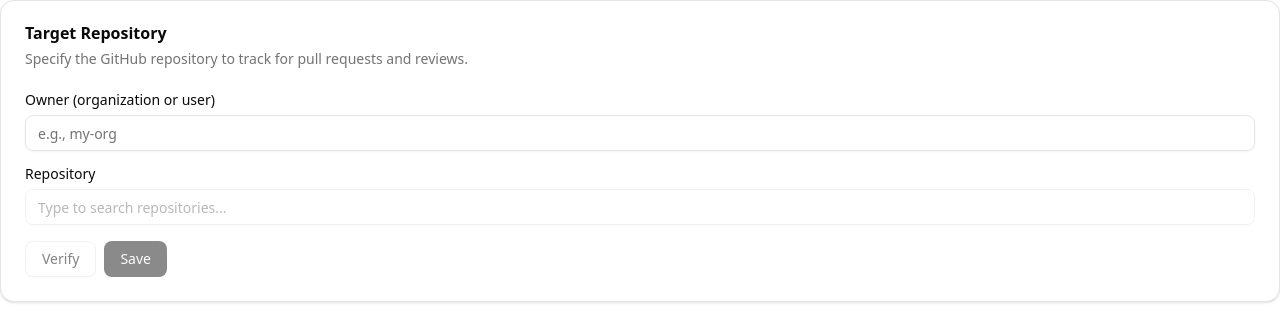
GitHubRepoForm › fills owner input when clicking a suggestion
The width and height of the screenshot is (1280, 328).
Focus the field labelled "Owner (organization or user)" at (640, 133), box 25,115 -> 1255,151
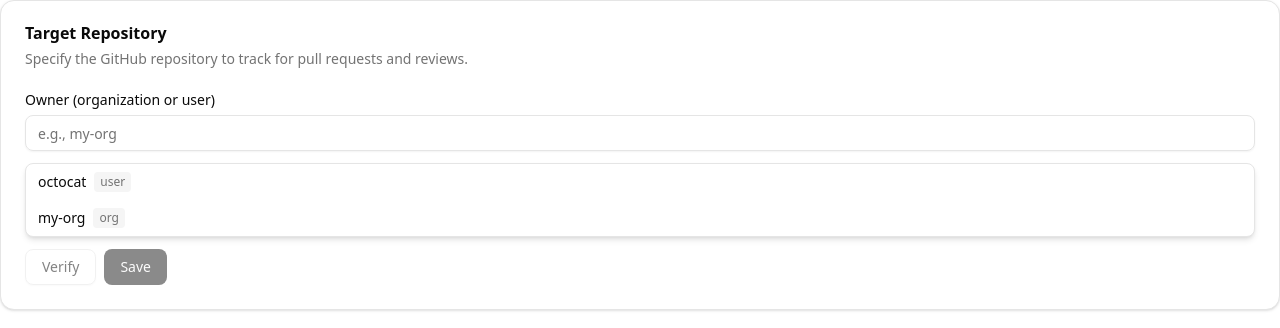
expect the text "my-org" is shown: met
Click the text "my-org" at (62, 218), box 38,208 -> 86,228
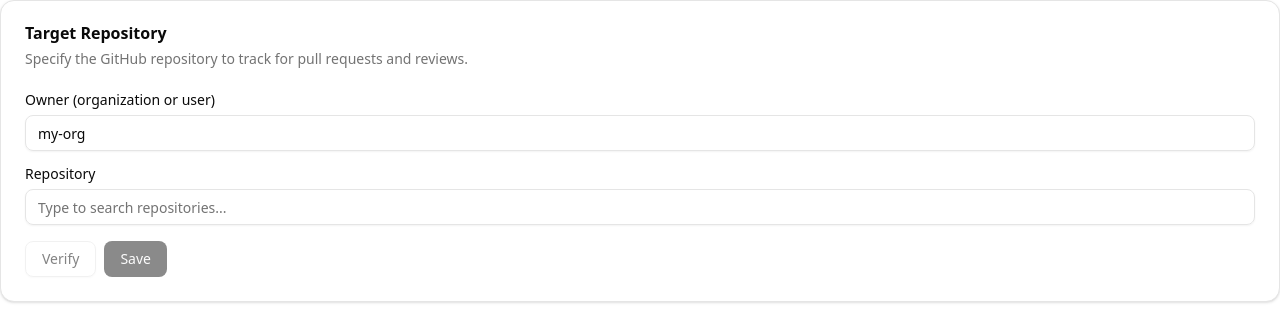
expect the field labelled "Owner (organization or user)" holds "my-org": met, box 25,115 -> 1255,151
